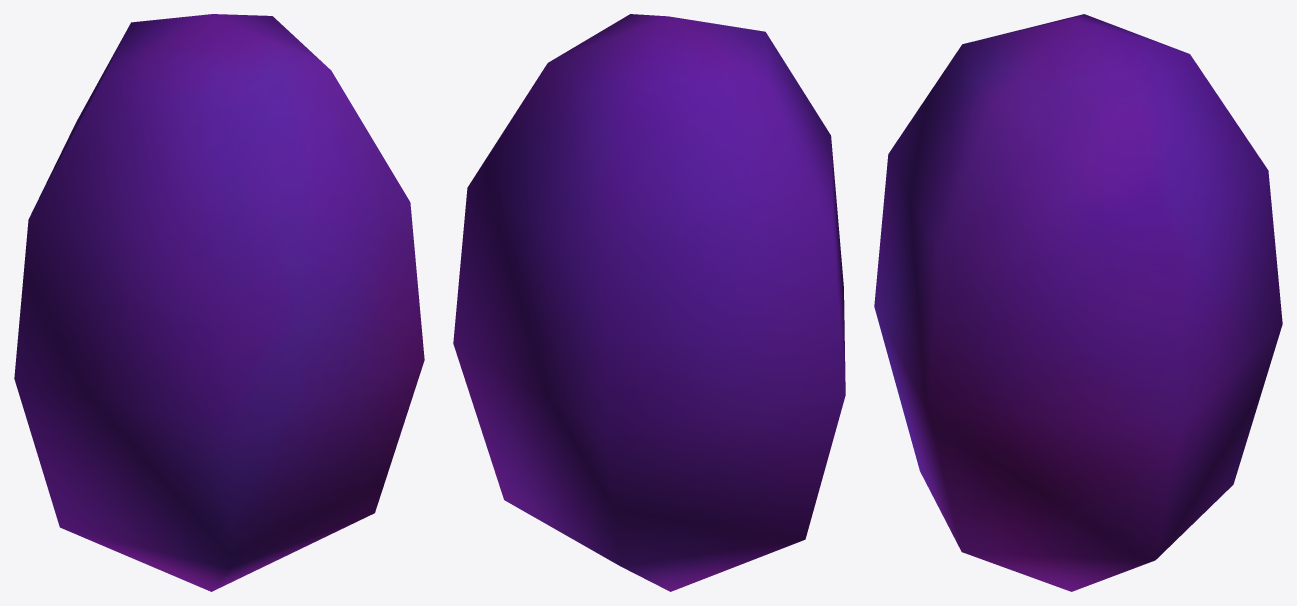
Rendered from Item_Plum.fbx.
3 views of the same model, side by side, from view 1: azimuth 30°, elevation 25°; view 2: azimuth 150°, elevation 25°; view 3: azimuth 270°, elevation 25° (orthographic).
Visible parts, largest first — view 1: Item_Plum; view 2: Item_Plum; view 3: Item_Plum.
Boxes of the visible parts, x1,y1,x2,y2 form: Item_Plum: (14, 14, 424, 591); Item_Plum: (453, 14, 845, 591); Item_Plum: (874, 14, 1282, 591).
Bounding box in the file's own units: 10.79 × 17.03 × 10.99.
